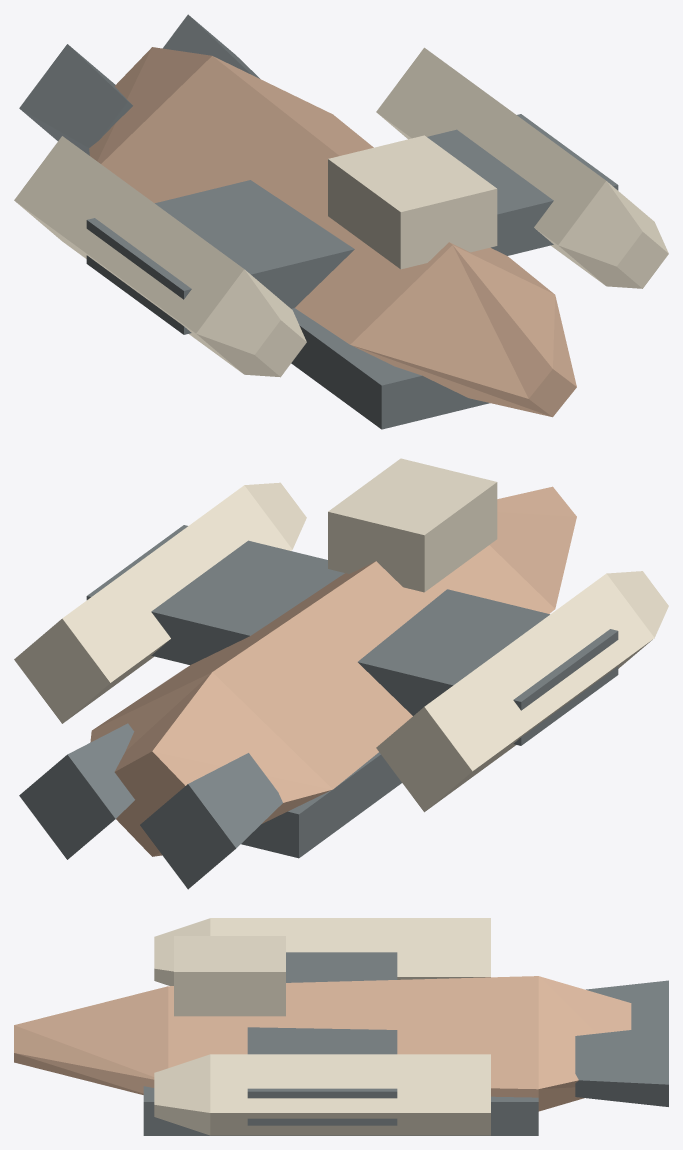
3 renders of one model, top to bottom at view 1: azimuth 30°, elevation 25°; view 2: azimuth 150°, elevation 25°; view 3: azimuth 270°, elevation 25°, orthographic. The views are drawn at different scales.
Size of the model in its own units: 4.01 by 1.71 by 6.44.
